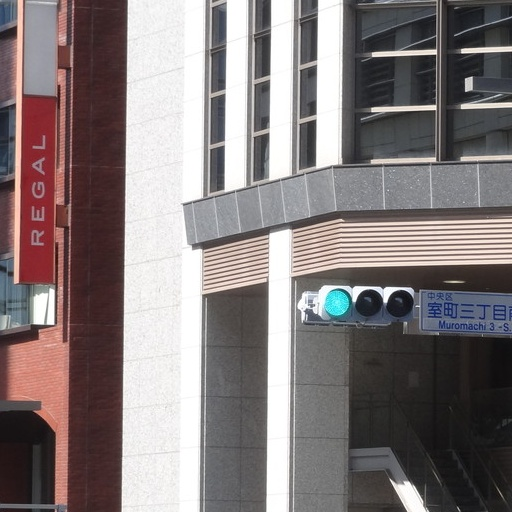Traffic_Signal_Blue: (315, 279, 418, 325)
